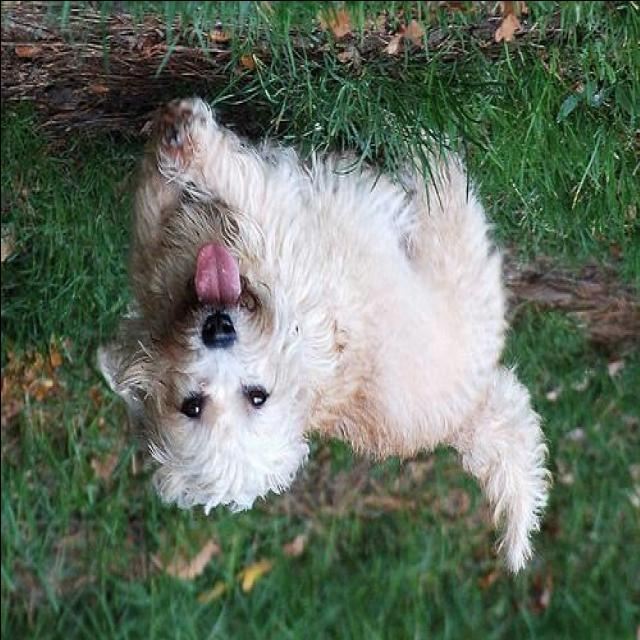dandie_dinmont: (95, 97, 549, 574)
